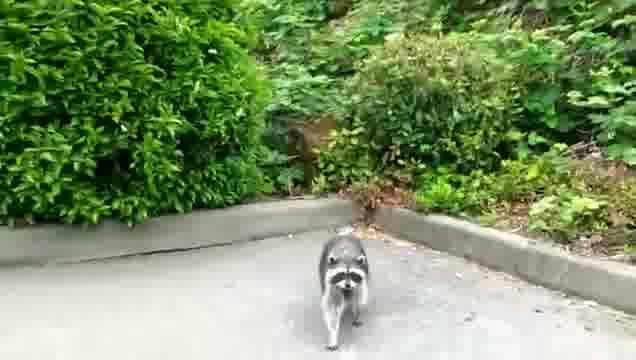raccoon: (319, 232, 371, 353)
